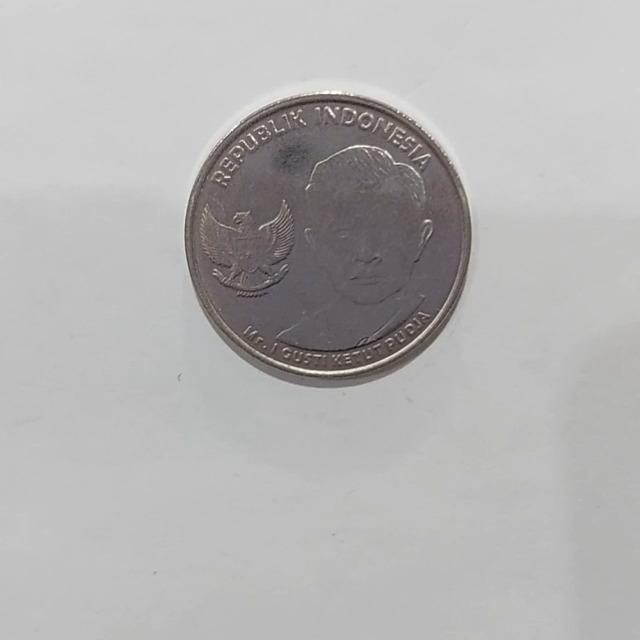Rp100: (182, 84, 473, 387)
